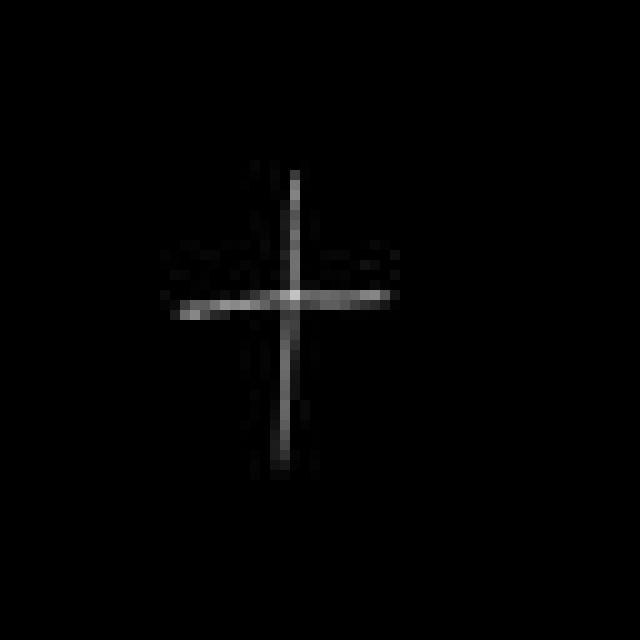10 -ten-: (167, 161, 398, 464)
